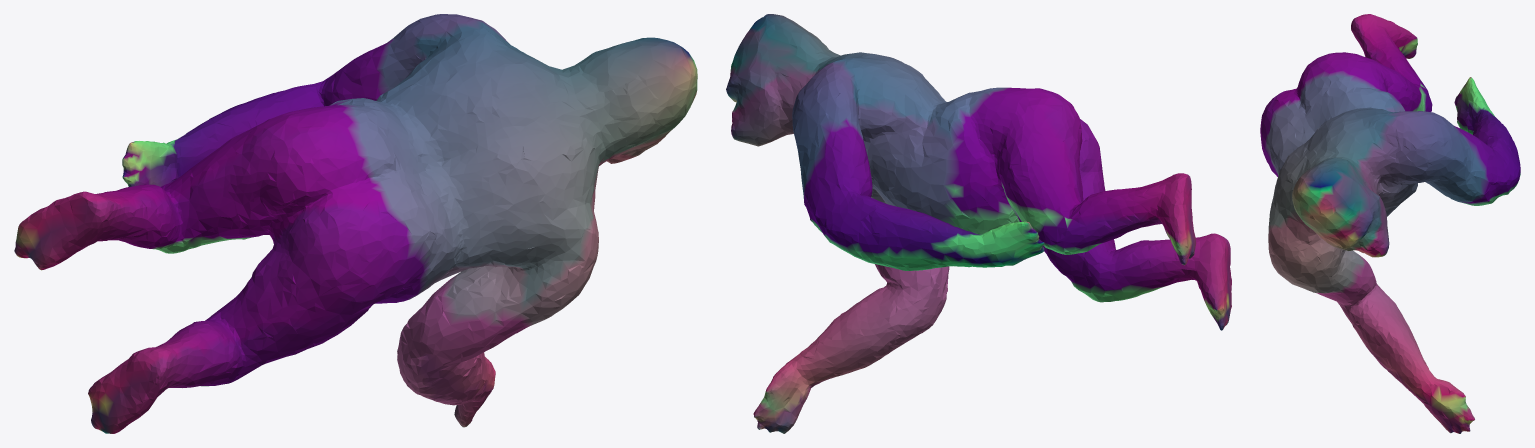
File: gorilla-3.off.obj
3 views of the same model, side by side, from view 1: azimuth 30°, elevation 25°; view 2: azimuth 150°, elevation 25°; view 3: azimuth 270°, elevation 25° (orthographic). The views are drawn at different scales.
Bounding box in the file's own units: 1.6 × 1.09 × 0.8373.
